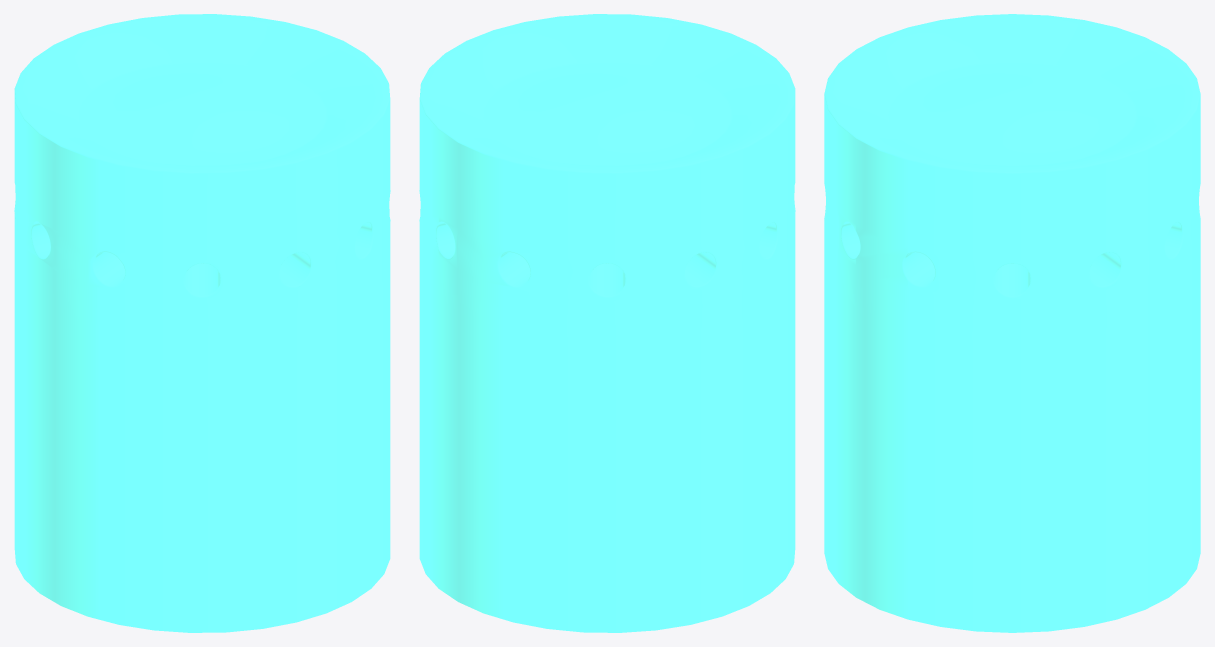
File: hilluminator.gltf
3 views of the same model, side by side, from view 1: azimuth 30°, elevation 25°; view 2: azimuth 150°, elevation 25°; view 3: azimuth 270°, elevation 25° (orthographic).
Parts seen in each view (by area): view 1: lamp; view 2: lamp; view 3: lamp.
Boxes of the visible parts, x1,y1,x2,y2 form: lamp: (14, 14, 390, 632); lamp: (419, 14, 795, 632); lamp: (824, 14, 1200, 632).
Size of the model in its own units: 0.0393 by 0.053 by 0.0393.
